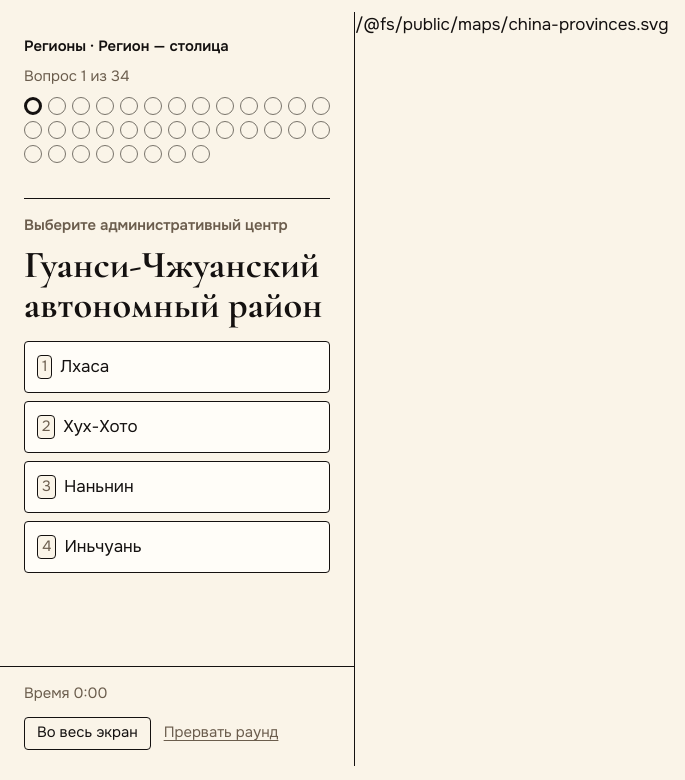
Scenario: в режиме «регион — столица» отвечают выбором варианта
// По доступному имени: цифра-подсказка скрыта от читалки и в имя не входит.
Click the button "3 Наньнин". click: (99, 487)
box: [24, 461, 330, 513]
Wait 500 ms
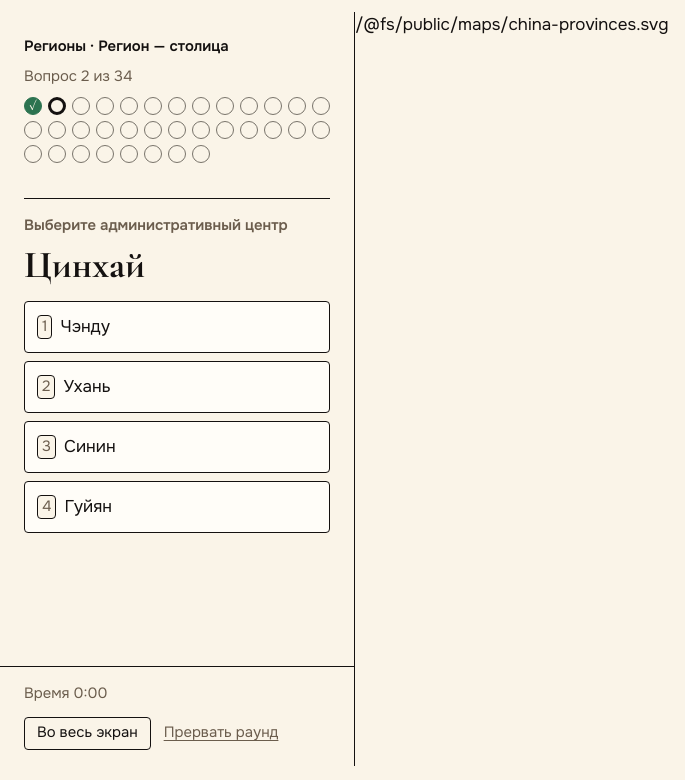
Check: the heading with test id "exercise-target" no longer shows "Гуанси-Чжуанский автономный район"
